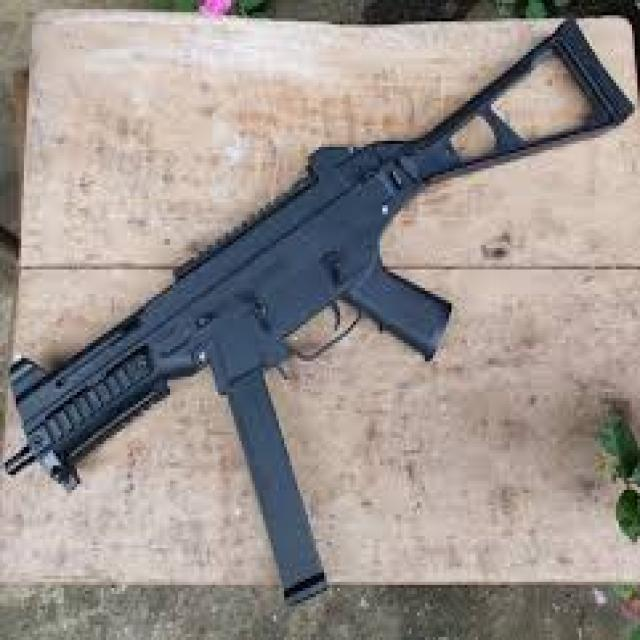Gun: (21, 24, 610, 600)
